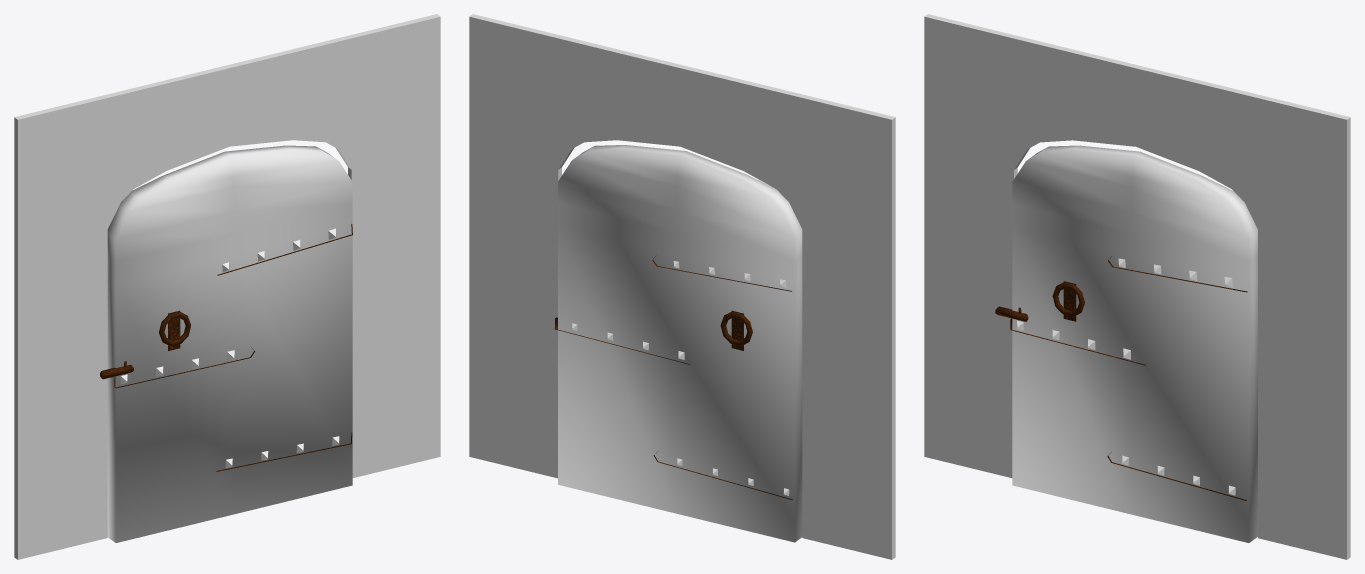
The model's file is door__wall.fbx.
3 views of the same model, side by side, from view 1: azimuth 30°, elevation 25°; view 2: azimuth 150°, elevation 25°; view 3: azimuth 330°, elevation 25° (orthographic).
Visible parts, largest first — view 1: Plane, Door, Spike, Ring, Plate; view 2: Plane, Door, Ring, Plate, Spike; view 3: Plane, Door, Spike, Ring, Plate.
Boxes of the visible parts, bbox=[...] form: Plane: bbox=[14, 14, 440, 559]; Door: bbox=[107, 145, 352, 542]; Spike: bbox=[120, 228, 339, 467]; Ring: bbox=[159, 310, 190, 350]; Plate: bbox=[114, 224, 352, 471]; Plane: bbox=[469, 14, 895, 559]; Door: bbox=[558, 145, 802, 542]; Ring: bbox=[720, 310, 752, 350]; Plate: bbox=[554, 256, 792, 499]; Spike: bbox=[572, 261, 789, 495]; Plane: bbox=[924, 14, 1350, 559]; Door: bbox=[1012, 145, 1257, 542]; Spike: bbox=[1017, 258, 1235, 495]; Ring: bbox=[1052, 281, 1084, 321]; Plate: bbox=[1010, 256, 1247, 500].
Bounding box in the file's own units: 2000 × 1999 × 155.
